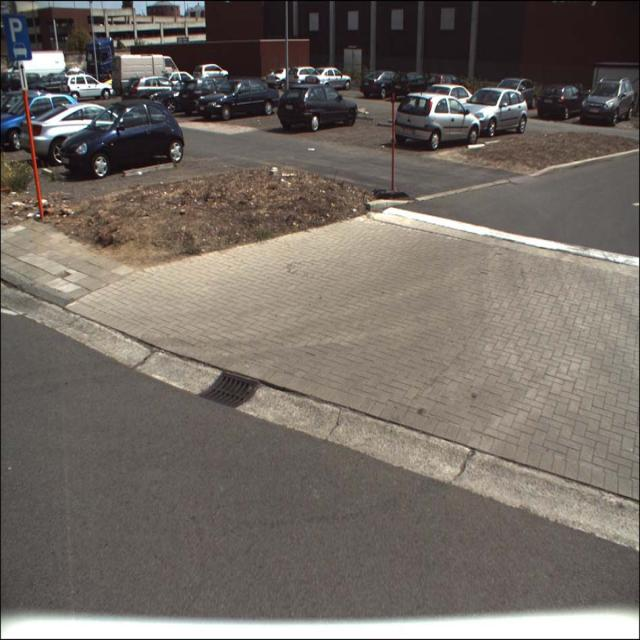park: (5, 15, 32, 61)
